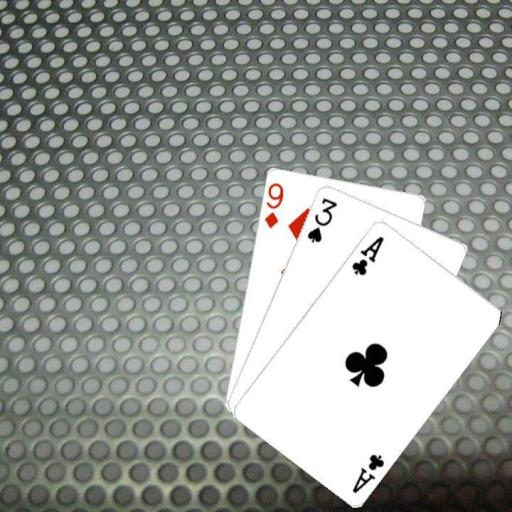card-corner: (304, 194, 338, 244), (349, 232, 386, 276), (349, 450, 386, 494), (261, 178, 285, 230)
